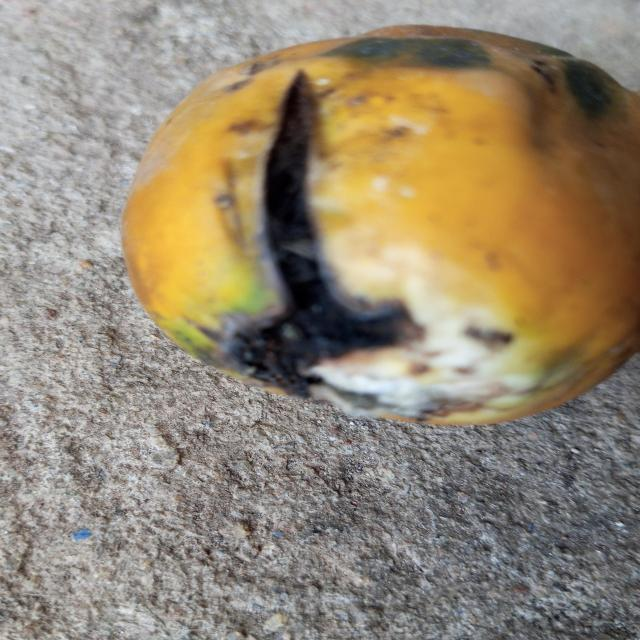damaged: (120, 26, 640, 431)
